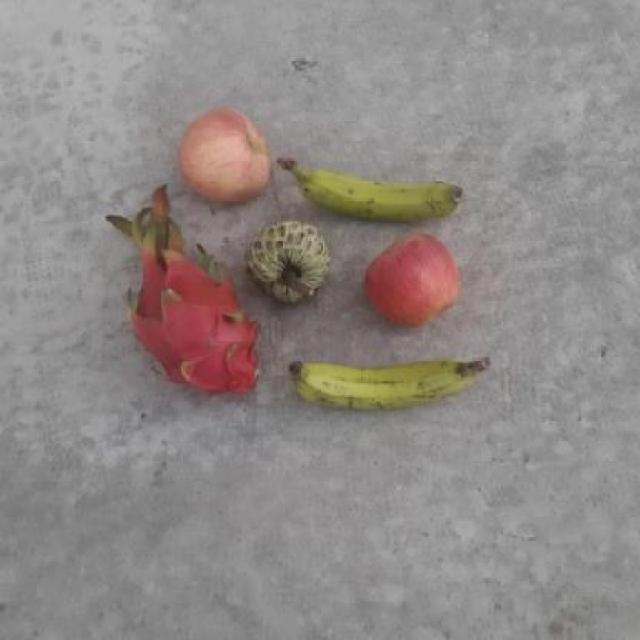apple: (361, 230, 467, 332), (172, 106, 277, 206)
banana: (287, 344, 470, 418), (280, 160, 457, 225)
dragon fruit: (122, 244, 266, 398)
sugar apple: (246, 221, 331, 308)
